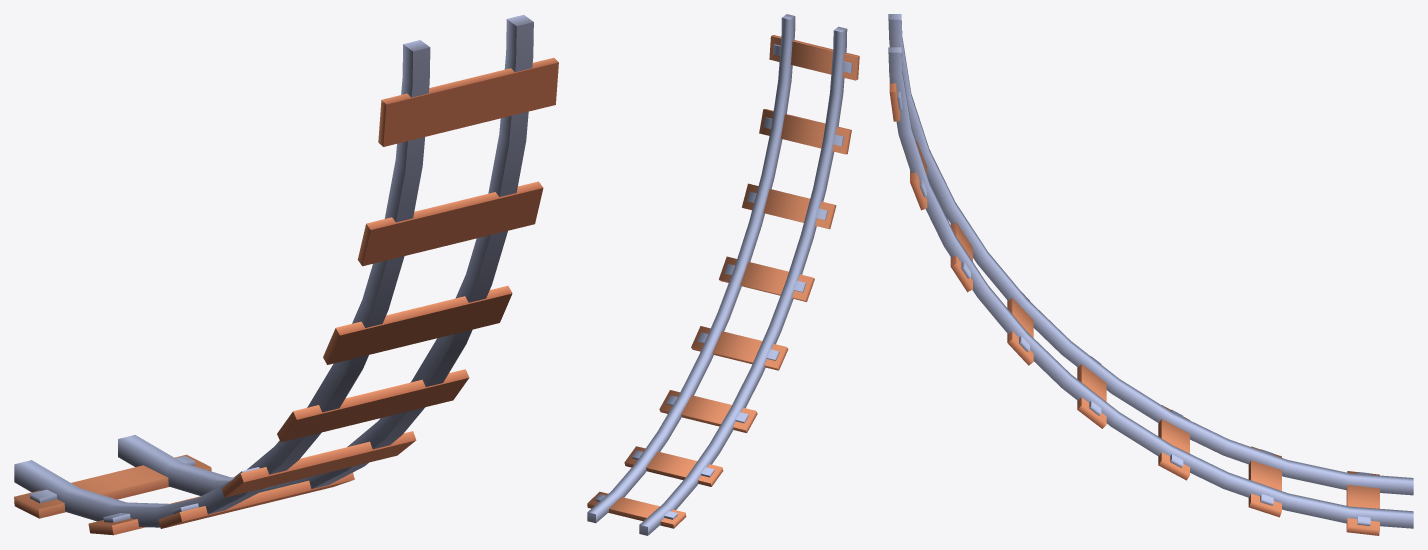
File: kenney-train-railroad-straight-bend-large.glb
3 views of the same model, side by side, from view 1: azimuth 30°, elevation 25°; view 2: azimuth 150°, elevation 25°; view 3: azimuth 270°, elevation 25° (orthographic). The views are drawn at different scales.
Visible parts, largest first — view 1: railroad-straight-bend-large; view 2: railroad-straight-bend-large; view 3: railroad-straight-bend-large.
Boxes of the visible parts, x1,y1,x2,y2 form: railroad-straight-bend-large: [14, 15, 558, 535]; railroad-straight-bend-large: [587, 14, 859, 535]; railroad-straight-bend-large: [888, 14, 1413, 535].
Bounding box in the file's own units: 1 × 4 × 4.
Materials: 1 (1 with a texture image).
